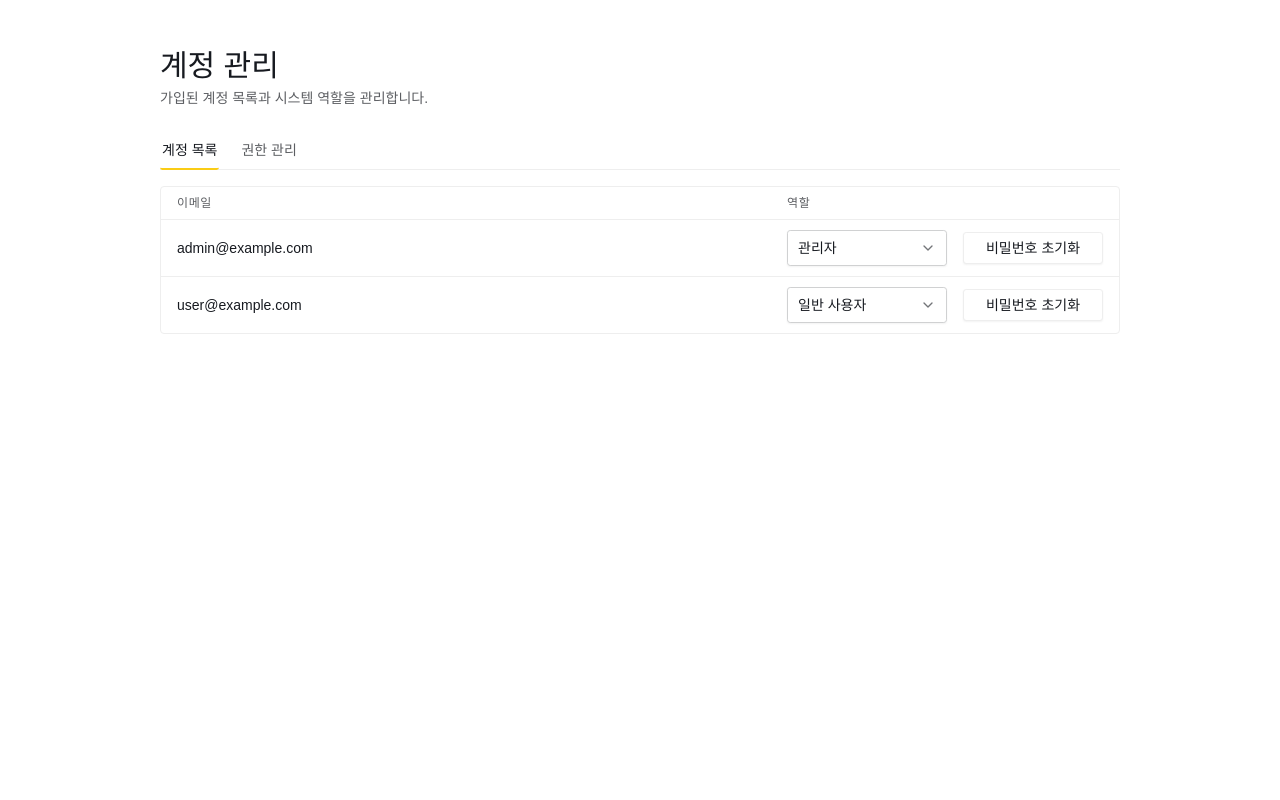
Test: AccountsPage › reset requires confirming a warning dialog before it issues a temp password
This screenshot has width=1280, height=800.
Expected: the dropdown with test id "account-role-select-a-1" is shown, [787, 230, 947, 266]
Click the button with test id "account-reset-button-a-1". click: (1033, 248)
box: [963, 232, 1103, 264]
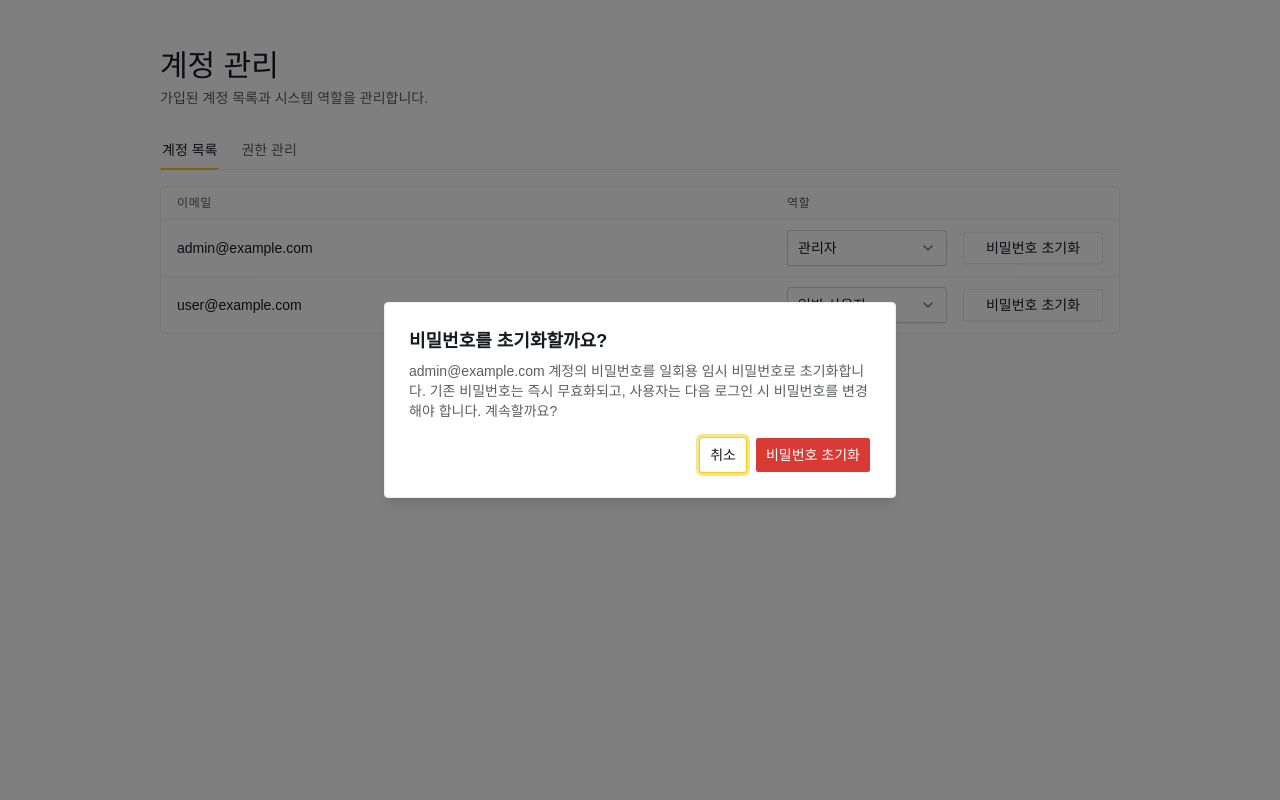
Expected: the dialog with test id "account-reset-confirm-a-1" is shown, [384, 302, 896, 498]
Confirming runs the reset and reveals the temp-password modal.
Click the button with test id "account-reset-confirm-a-1-ok". click: (813, 455)
box: [755, 437, 871, 473]
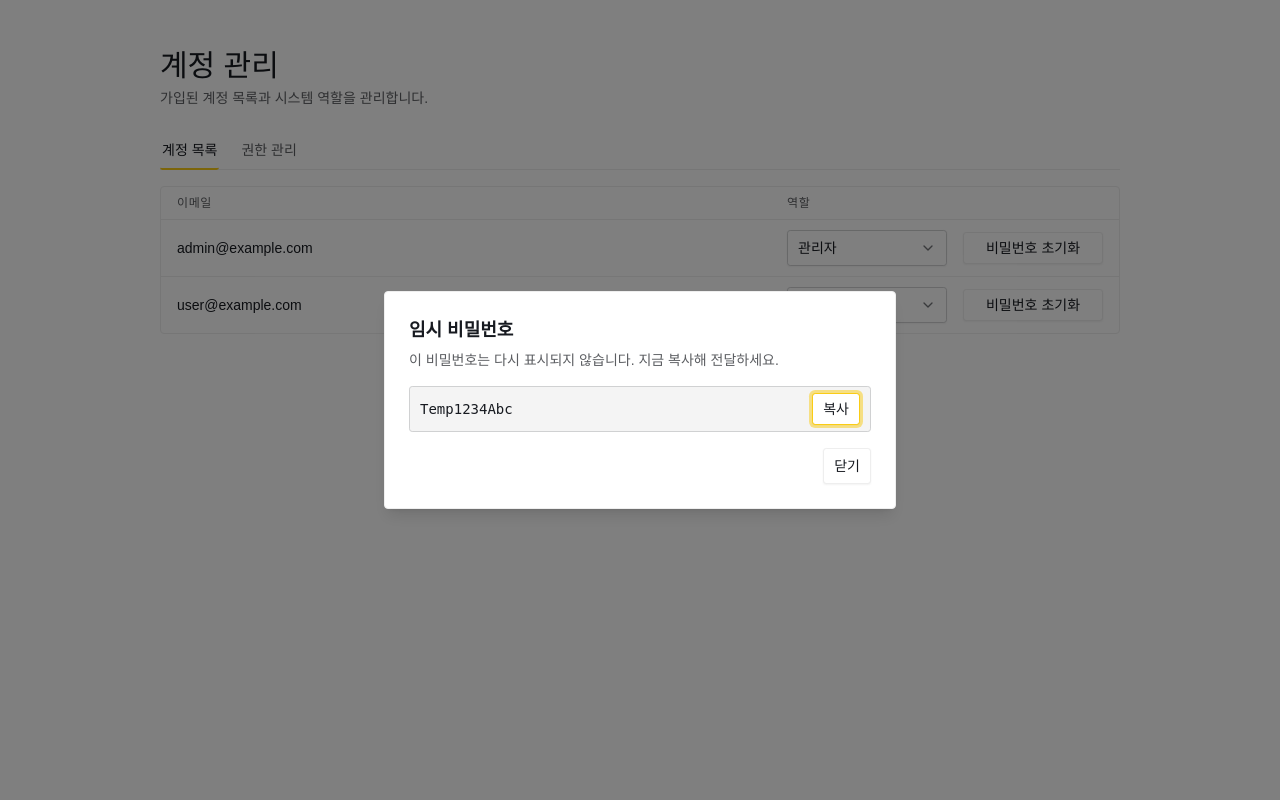
Expected: the dialog with test id "account-reset-modal" is shown, [384, 291, 896, 509]
Expected: the text "Temp1234Abc" is shown, [420, 401, 513, 417]
